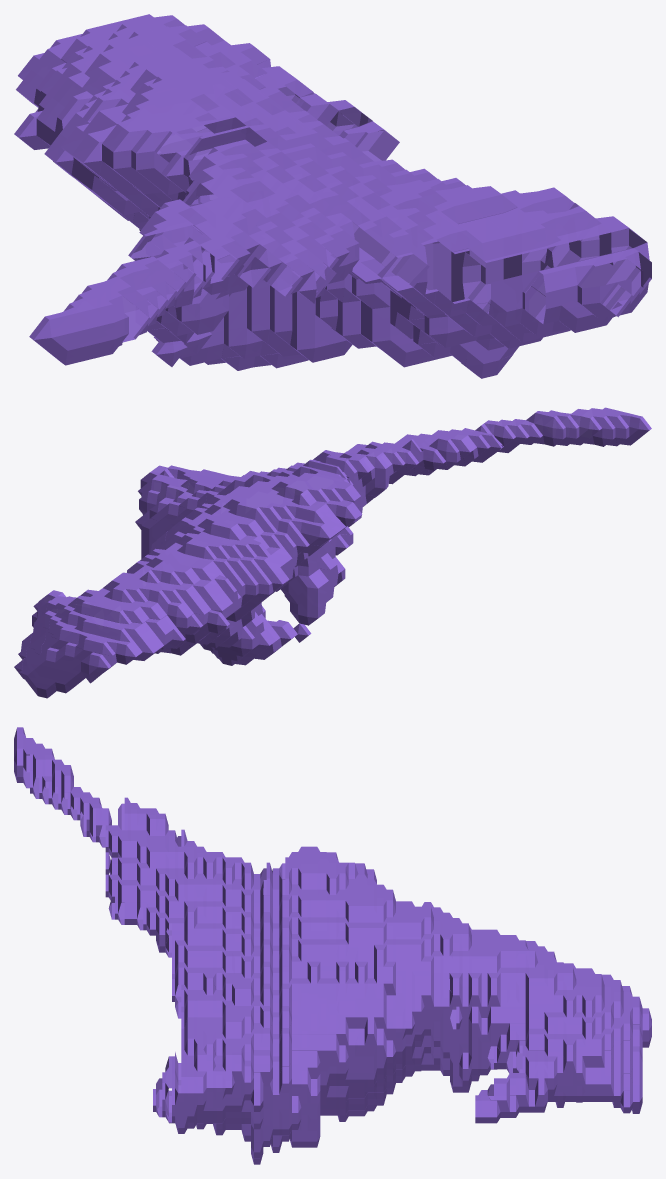
Rendered from SVV_BWM-VL03.gltf.
The picture shows the model from 3 angles, top to bottom: view 1: azimuth 30°, elevation 25°; view 2: azimuth 150°, elevation 25°; view 3: azimuth 270°, elevation 25°; orthographic projection. The views are drawn at different scales.
Parts seen in each view (by area): view 1: BWM-VL03; view 2: BWM-VL03; view 3: BWM-VL03.
Part boxes in pixels (x1,y1,x2,y2): BWM-VL03: [14, 14, 651, 378]; BWM-VL03: [14, 407, 651, 698]; BWM-VL03: [14, 727, 651, 1164].
Size of the model in its own units: 23557 by 10237 by 25869.
